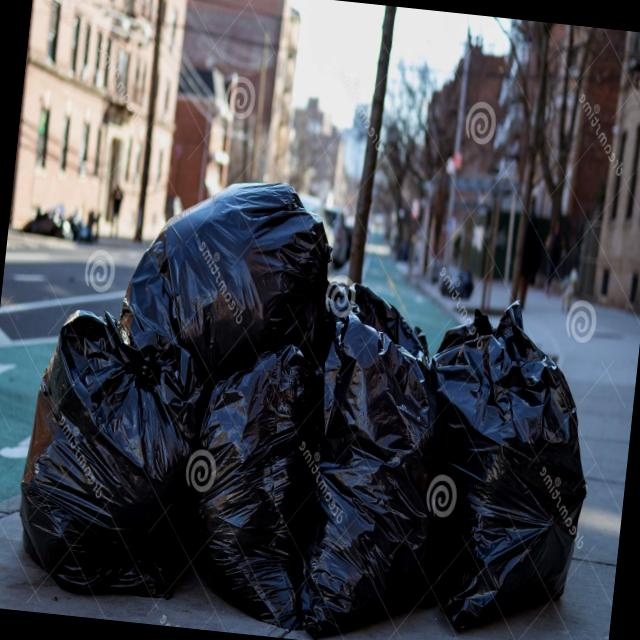garbage: (6, 142, 621, 640)
